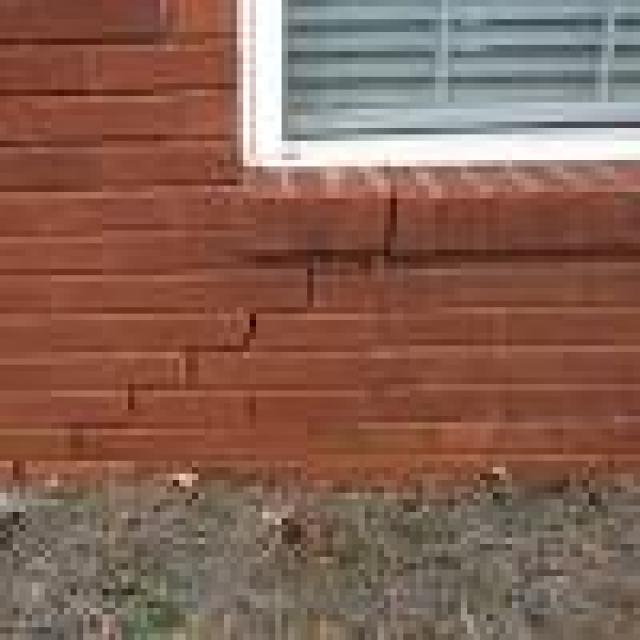Crack: (6, 166, 384, 480)
